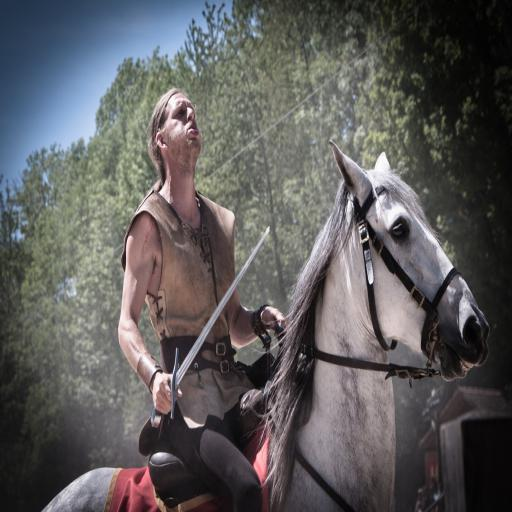horse: (39, 139, 490, 512)
